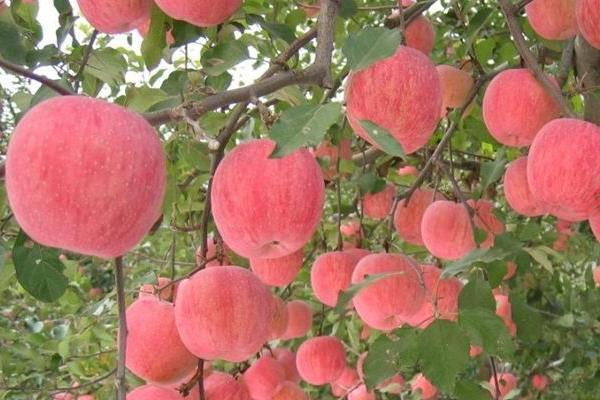apple: (2, 94, 168, 257), (209, 138, 324, 259), (341, 43, 444, 153), (173, 265, 272, 361), (120, 290, 202, 385), (529, 116, 600, 221), (479, 67, 568, 148), (353, 253, 424, 331), (311, 246, 370, 309), (504, 156, 549, 220), (296, 335, 347, 385)
